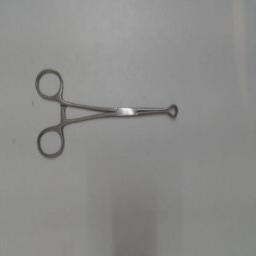Babcock Tissue Forceps: (32, 64, 180, 162)
